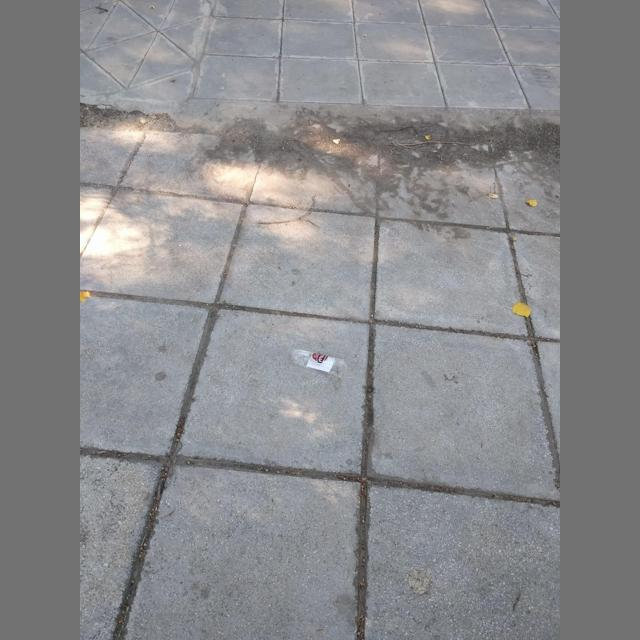litter: (291, 349, 347, 378)
